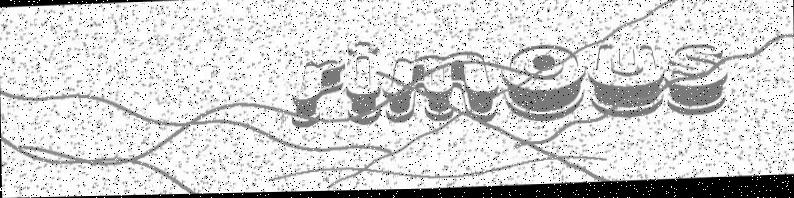i: (342, 36, 386, 127)
m: (382, 52, 499, 126)
o: (498, 45, 591, 129)
r: (294, 51, 345, 133)
s: (664, 42, 735, 122)
u: (587, 40, 665, 125)
